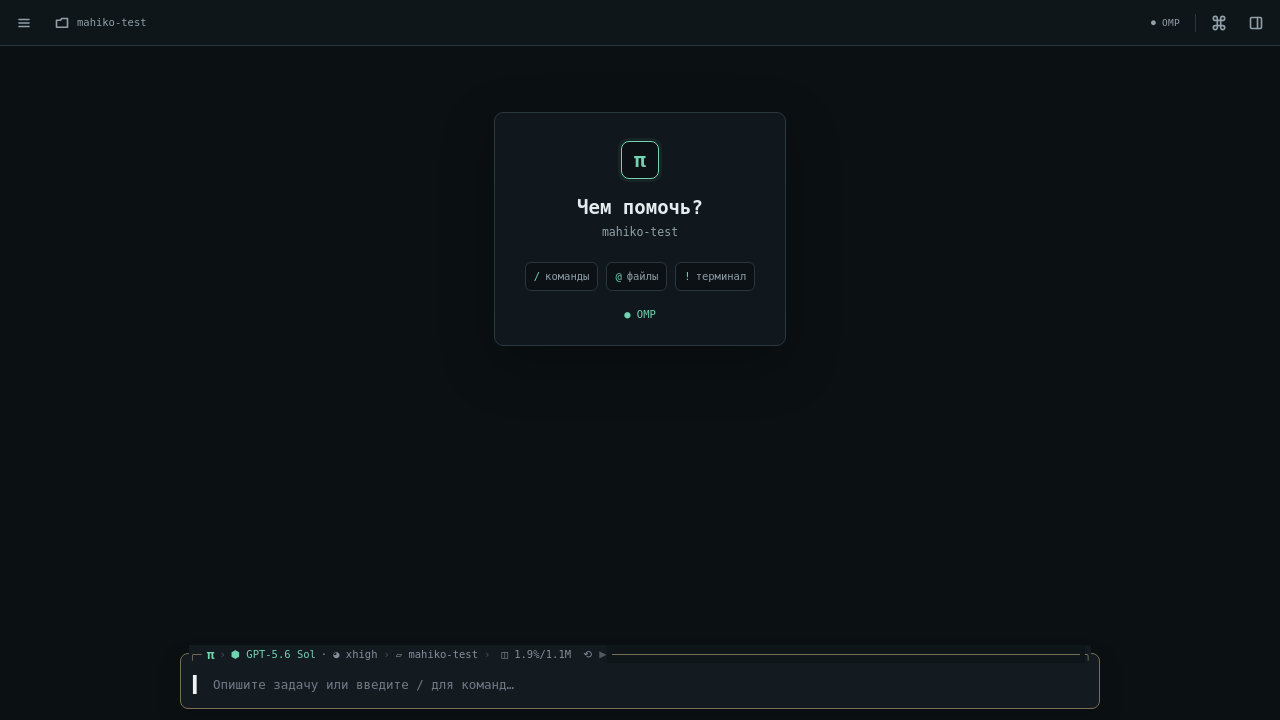
Test case: оболочка mahiko › назначает модель и reasoning через OMP API
Click the button with aria-label "Выбрать модель: GPT-5.6 Sol": (273, 654) [231,645,316,663]
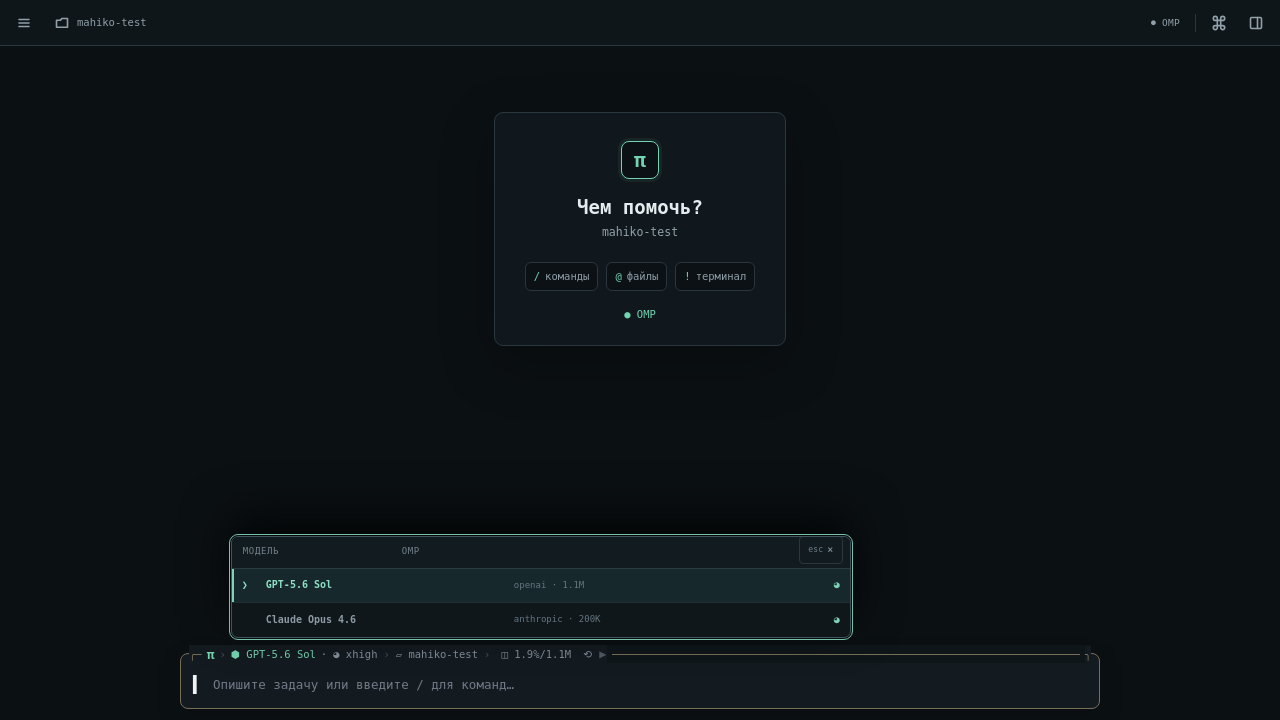
Click the option "Claude Opus 4.6 anthropic · 200K ◕": (541, 620) [232,603,850,637]
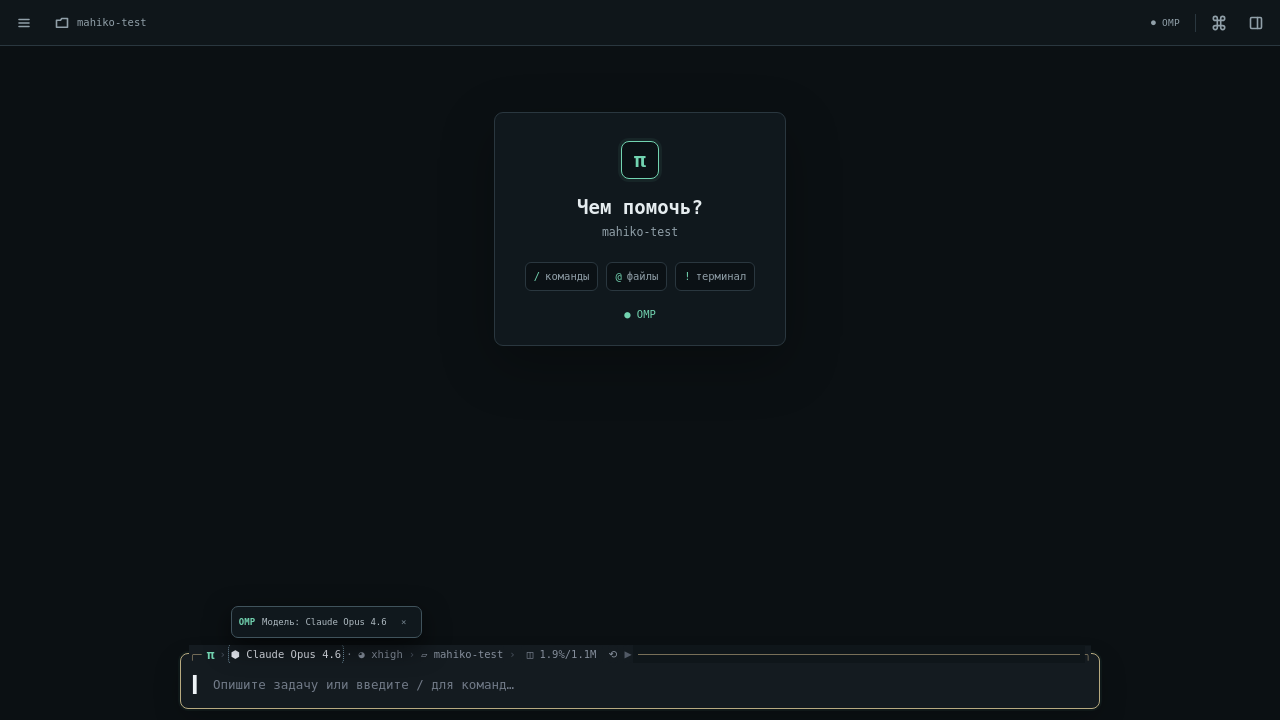
Result: the button with aria-label "Выбрать модель: Claude Opus 4.6" is shown at [231,645,341,663]
Click the button with aria-label "Выбрать уровень рассуждения: xhigh": (381, 654) [358,645,404,663]
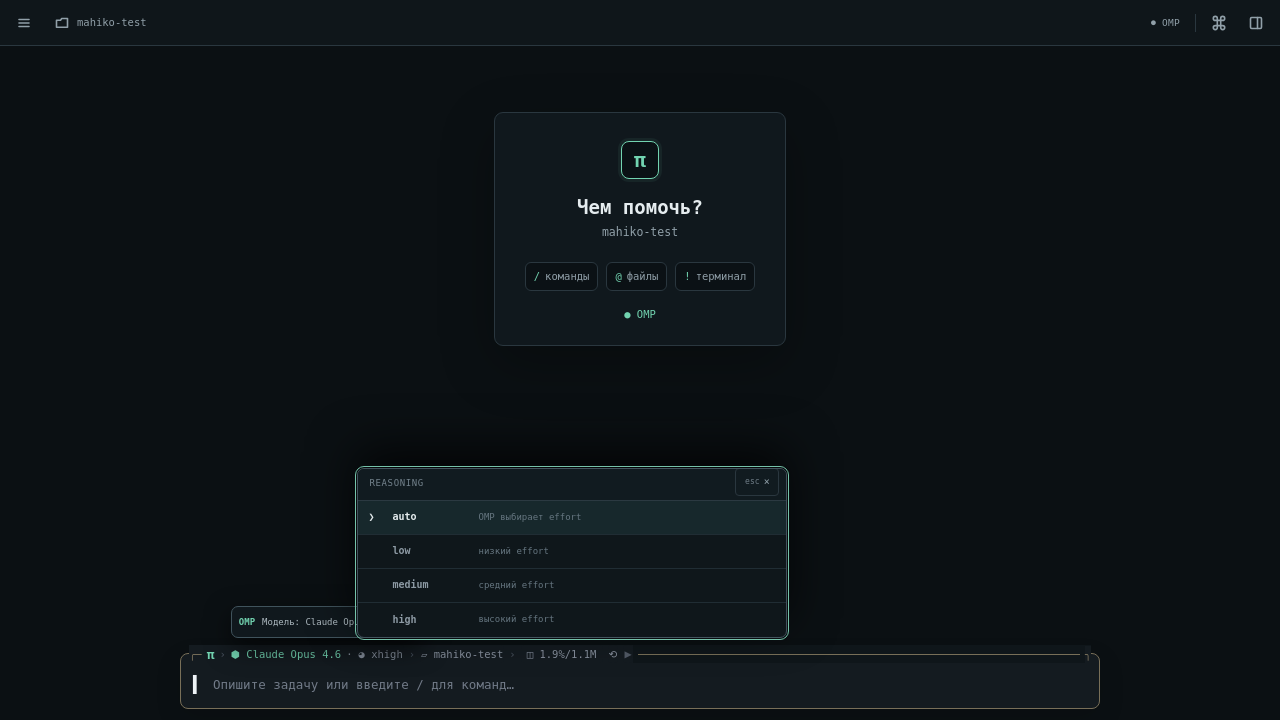
Click the option "high высокий effort": (516, 619) [358,603,786,637]
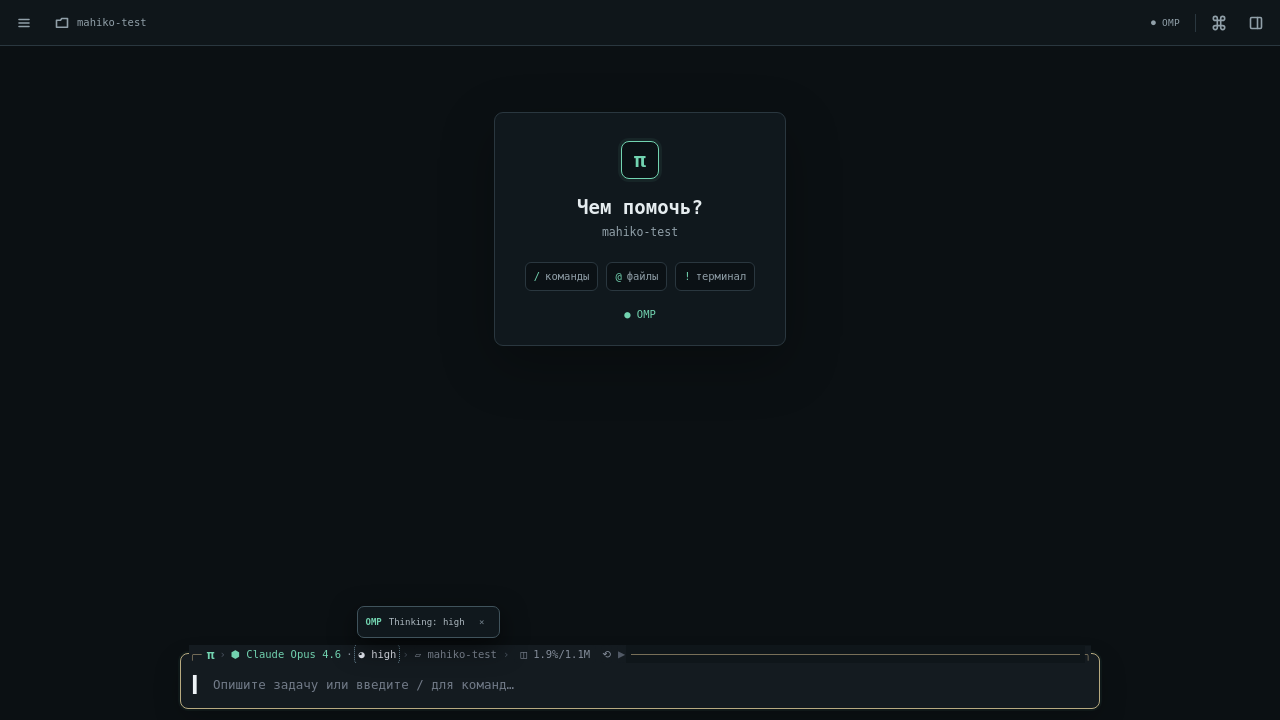
Result: the button with aria-label "Выбрать уровень рассуждения: high" is shown at [358,645,398,663]
